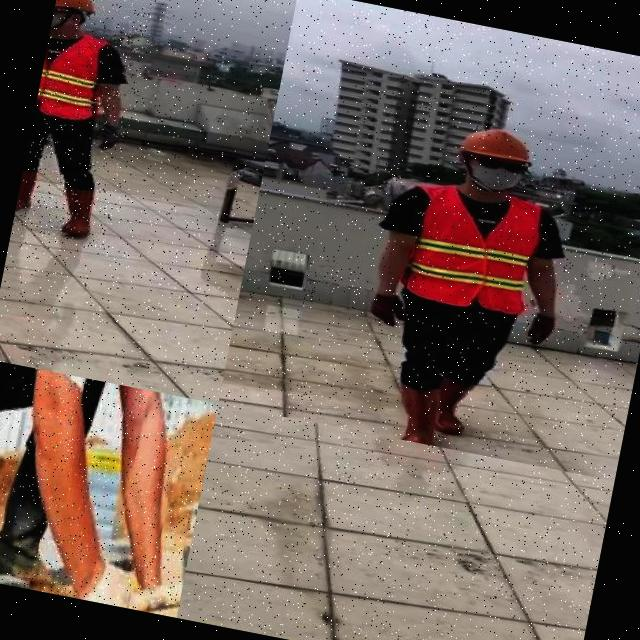boots: (10, 0, 157, 252), (0, 533, 87, 599), (392, 383, 448, 447), (436, 378, 482, 439), (54, 183, 101, 241), (14, 170, 38, 217)
helmet: (454, 119, 540, 170), (53, 0, 99, 20)
vest: (404, 182, 544, 318), (34, 29, 108, 126)
